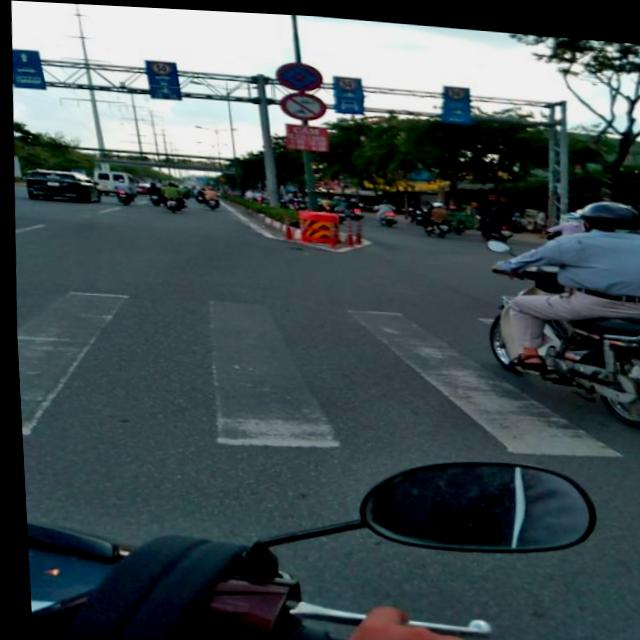Cam dung xe va do xe: (272, 57, 323, 90)
Toc do toi da cho phep: (150, 59, 170, 73), (336, 73, 356, 87), (445, 82, 466, 95)
